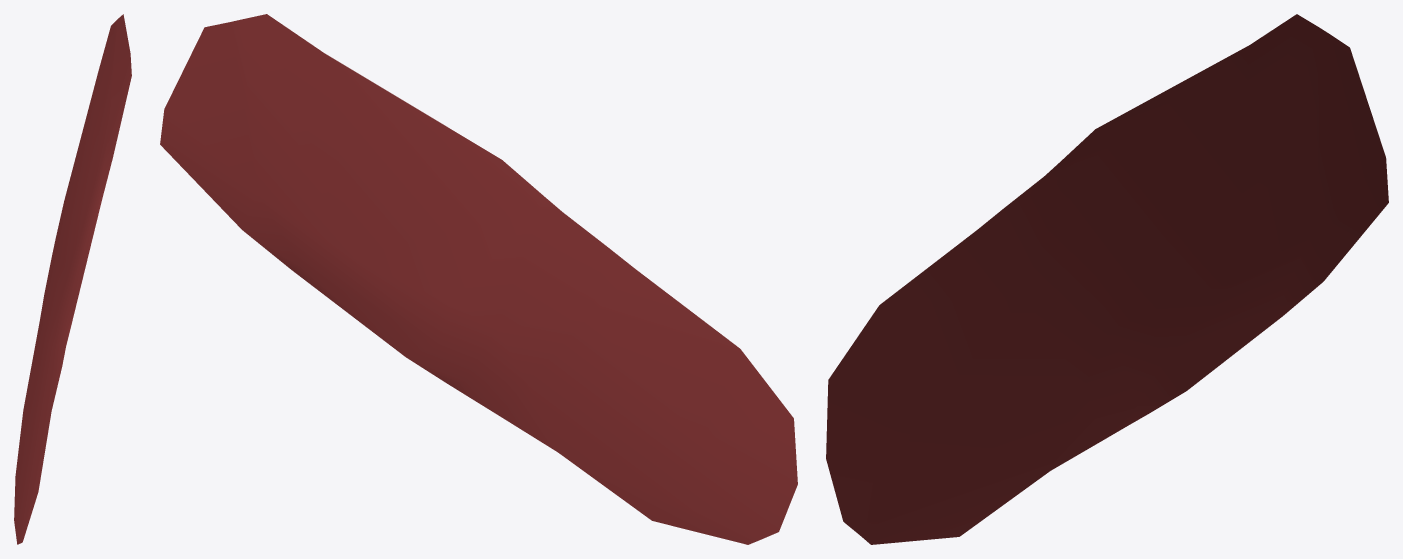
File: serratus-posterior-inferior-muscle-e2l.glb
3 views of the same model, side by side, from view 1: azimuth 30°, elevation 25°; view 2: azimuth 150°, elevation 25°; view 3: azimuth 270°, elevation 25° (orthographic). The views are drawn at different scales.
Visible parts, largest first — view 1: Serratus posterior inferior muscle.e2l; view 2: Serratus posterior inferior muscle.e2l; view 3: Serratus posterior inferior muscle.e2l.
Part boxes in pixels (box(x1,y1,x2,y2)): Serratus posterior inferior muscle.e2l: box(14, 14, 131, 544); Serratus posterior inferior muscle.e2l: box(160, 14, 797, 544); Serratus posterior inferior muscle.e2l: box(826, 14, 1388, 544).
Bounding box in the file's own units: 0.0125 × 0.0171 × 0.0122.
